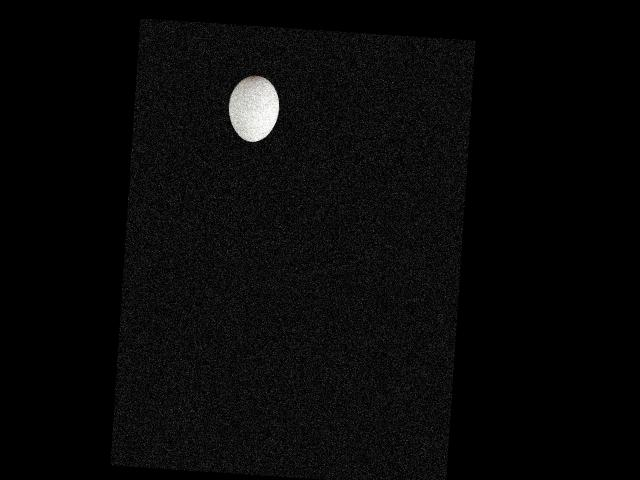egg: (227, 73, 281, 143)
